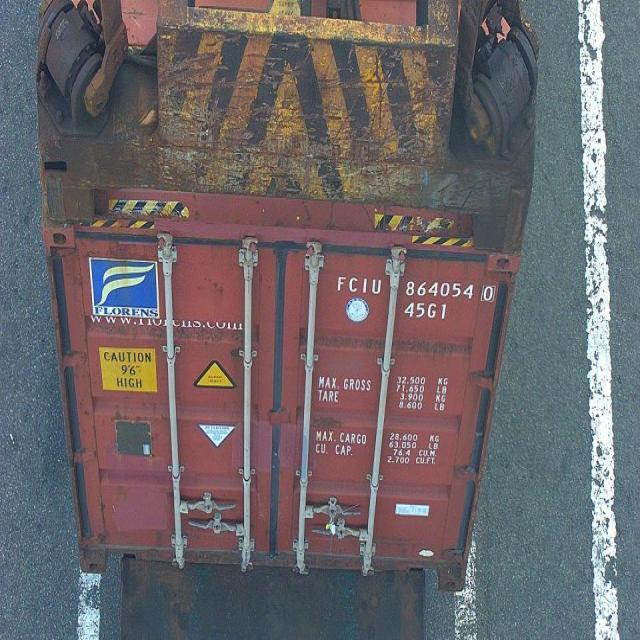ISO: (405, 301, 450, 320)
container_number: (332, 268, 497, 304)
